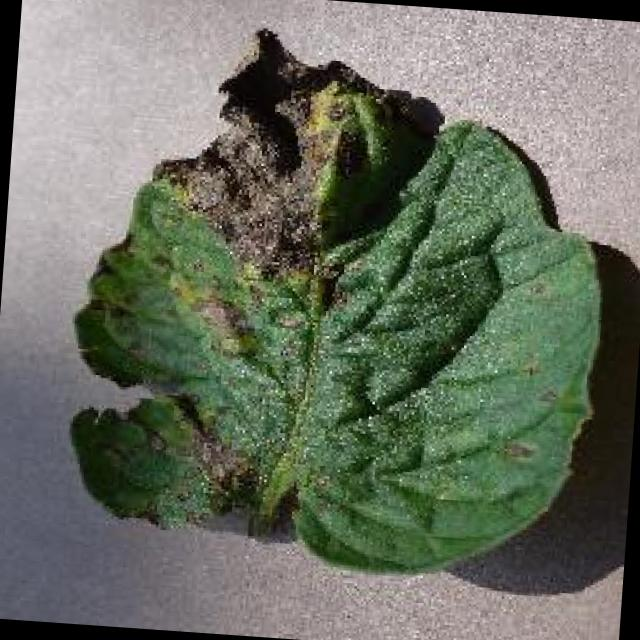Tomato_Early_Blight: (57, 6, 384, 543)
